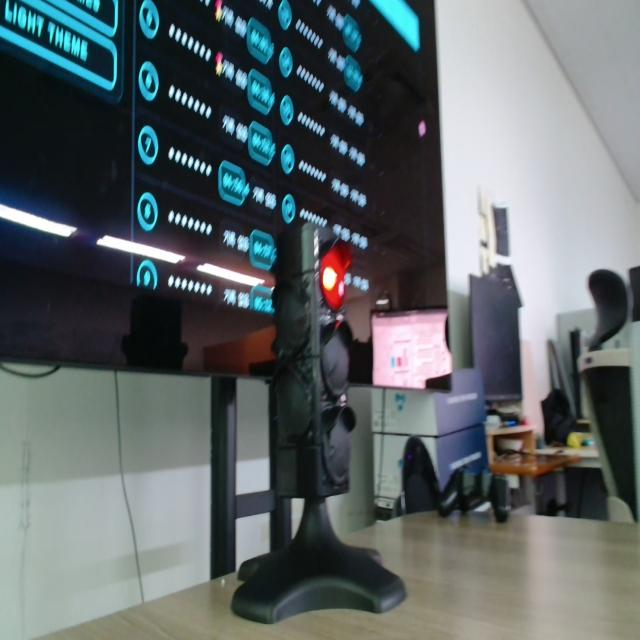red_light: (321, 241, 351, 311), (322, 267, 337, 291)
